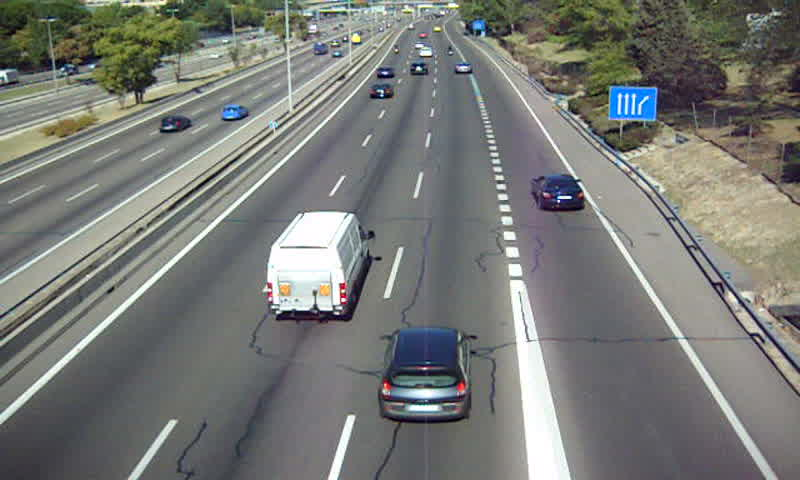car: (377, 329, 470, 423), (532, 174, 584, 211), (369, 83, 392, 100), (375, 64, 397, 80), (408, 62, 428, 76), (453, 61, 472, 74), (417, 46, 436, 58)
van: (266, 212, 374, 320)
